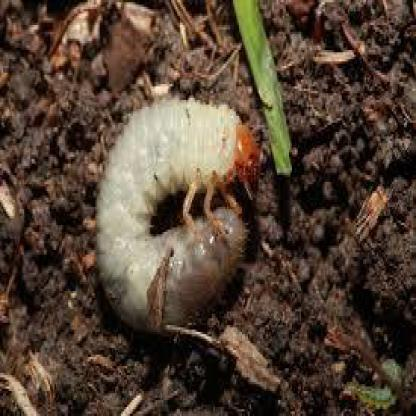root grubs: (97, 98, 258, 333)
